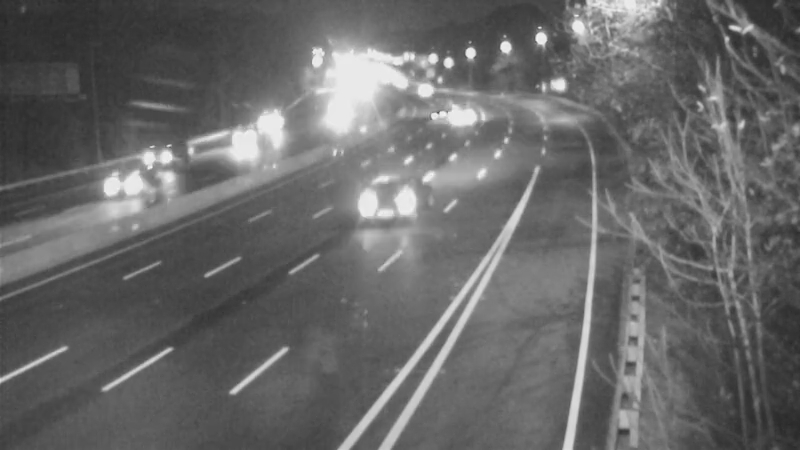vehicle: (356, 167, 436, 247), (74, 153, 154, 233), (117, 122, 197, 202), (406, 73, 456, 123), (438, 87, 488, 137), (214, 114, 264, 164), (242, 95, 292, 145), (308, 89, 358, 139)
